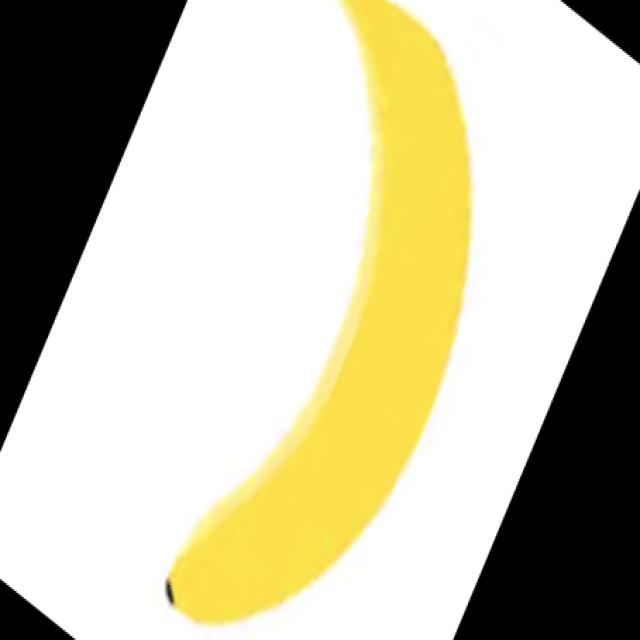god quality banana: (166, 4, 472, 623)
